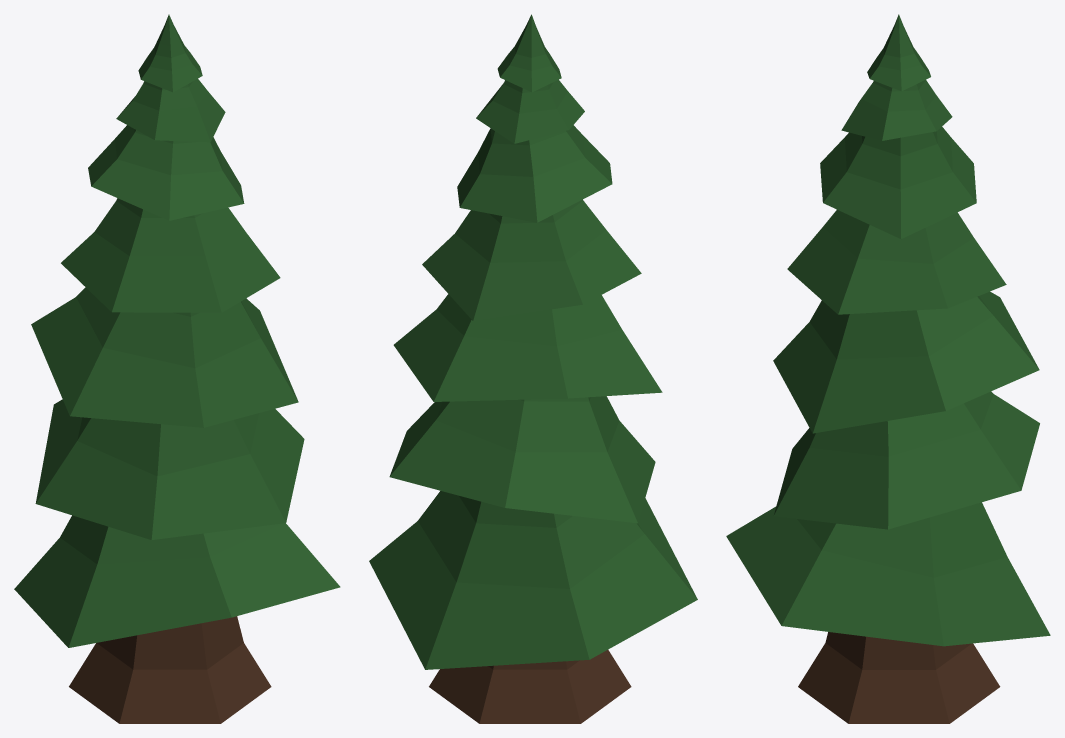
Rendered from pine_tree2.glb.
The picture shows the model from 3 angles, left to right: view 1: azimuth 30°, elevation 25°; view 2: azimuth 150°, elevation 25°; view 3: azimuth 270°, elevation 25°; orthographic projection.
Parts seen in each view (by area): view 1: Cylinder.010, Cylinder.009, Cylinder.011, Cylinder.012, Cylinder.008, Cylinder.013, Cylinder.014, Cylinder.015; view 2: Cylinder.009, Cylinder.010, Cylinder.011, Cylinder.012, Cylinder.013, Cylinder.008, Cylinder.014, Cylinder.015; view 3: Cylinder.009, Cylinder.011, Cylinder.010, Cylinder.012, Cylinder.008, Cylinder.013, Cylinder.014, Cylinder.015.
Part boxes in pixels (bbox=[...]): Cylinder.010: bbox=[35, 399, 304, 539]; Cylinder.009: bbox=[14, 515, 340, 647]; Cylinder.011: bbox=[31, 287, 298, 427]; Cylinder.012: bbox=[61, 198, 280, 312]; Cylinder.008: bbox=[69, 616, 271, 723]; Cylinder.013: bbox=[88, 125, 244, 220]; Cylinder.014: bbox=[116, 78, 225, 142]; Cylinder.015: bbox=[138, 14, 202, 92]; Cylinder.009: bbox=[369, 491, 697, 669]; Cylinder.010: bbox=[389, 396, 655, 523]; Cylinder.011: bbox=[393, 294, 662, 401]; Cylinder.012: bbox=[422, 199, 641, 321]; Cylinder.013: bbox=[457, 125, 612, 222]; Cylinder.008: bbox=[429, 650, 631, 723]; Cylinder.014: bbox=[476, 79, 584, 143]; Cylinder.015: bbox=[497, 14, 561, 92]; Cylinder.009: bbox=[726, 502, 1050, 646]; Cylinder.011: bbox=[773, 291, 1039, 433]; Cylinder.010: bbox=[773, 391, 1039, 529]; Cylinder.012: bbox=[787, 209, 1006, 314]; Cylinder.008: bbox=[798, 632, 1000, 723]; Cylinder.013: bbox=[820, 126, 976, 238]; Cylinder.014: bbox=[841, 80, 952, 140]; Cylinder.015: bbox=[867, 14, 930, 91].
Size of the model in its own units: 5.12 by 12.05 by 5.27.
